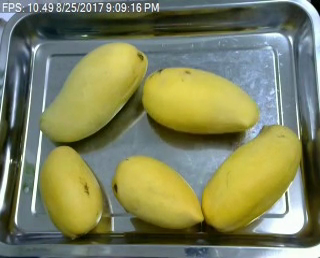Mango: (37, 36, 150, 147), (203, 126, 305, 228), (140, 66, 259, 133), (109, 151, 206, 230), (31, 143, 107, 238)
